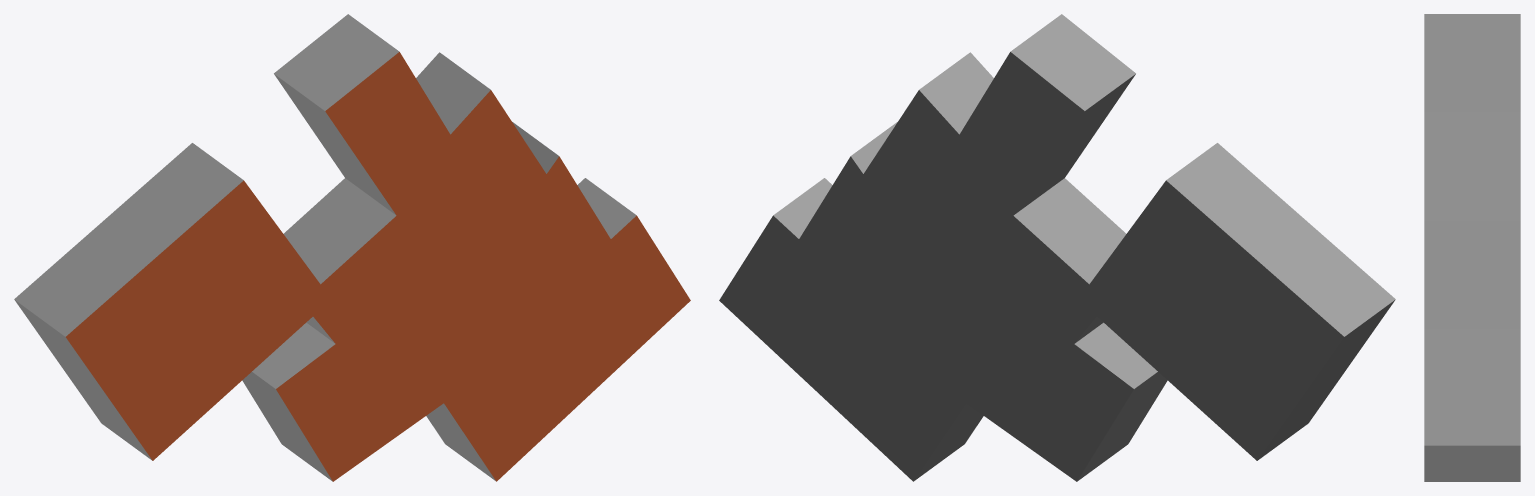
File: construction_1089_assumed_A_Casa_h6m.obj
The picture shows the model from 3 angles, left to right: view 1: azimuth 30°, elevation 25°; view 2: azimuth 150°, elevation 25°; view 3: azimuth 270°, elevation 25°; orthographic projection. The views are drawn at different scales.
Visible parts, largest first — view 1: construction_1089_assumed_A_Casa; view 2: construction_1089_assumed_A_Casa; view 3: construction_1089_assumed_A_Casa.
Boxes of the visible parts, x1=… form: construction_1089_assumed_A_Casa: x1=14, y1=14, x2=690, y2=481; construction_1089_assumed_A_Casa: x1=719, y1=14, x2=1395, y2=481; construction_1089_assumed_A_Casa: x1=1424, y1=14, x2=1520, y2=481.
Bounding box in the file's own units: 42.08 × 29.18 × 6.
